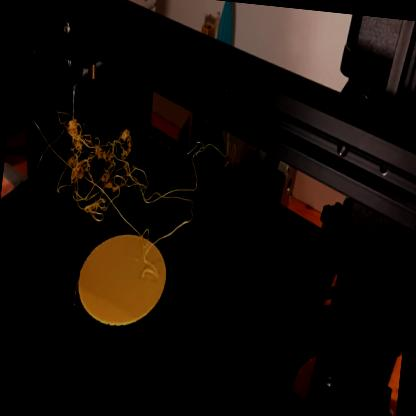fail: (38, 118, 163, 233)
